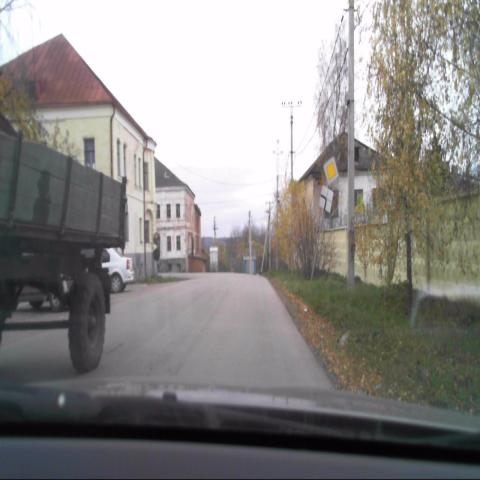8_13: (318, 187, 334, 217)
